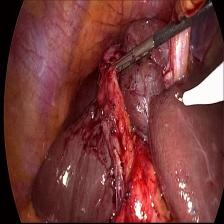Grasper: (107, 34, 153, 82)
Hook: (173, 58, 223, 118)
